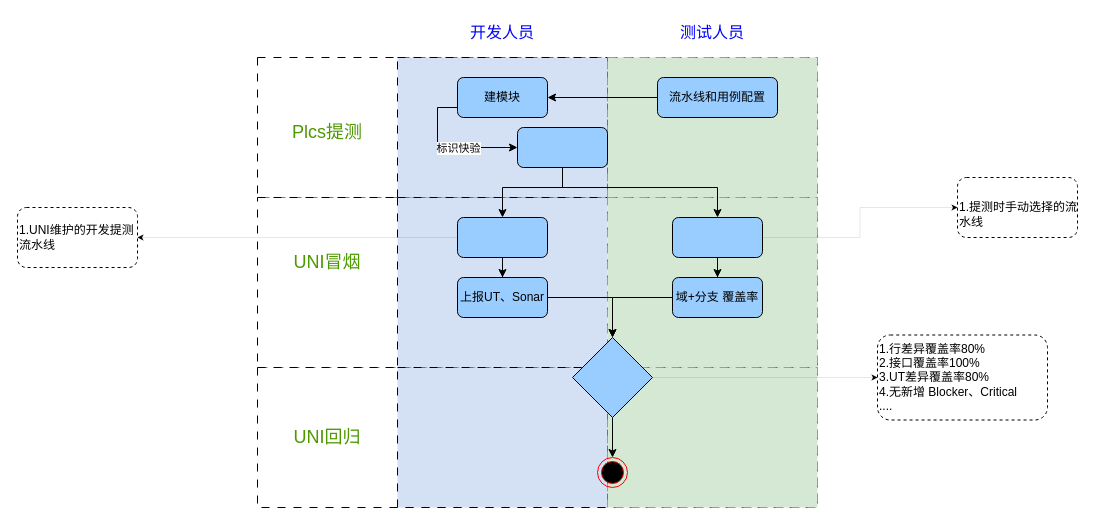
Image size: 1095x525. Some labels were removed from this diagram. The shapes that lost their labels are listed below. From the top down, each one's centre as x and y in pixels, then its label:
At (x=562, y=147): "提测".
At (x=502, y=237): "UT流水线".
At (x=717, y=237): "AT流水线".
At (x=612, y=377): "门禁".
